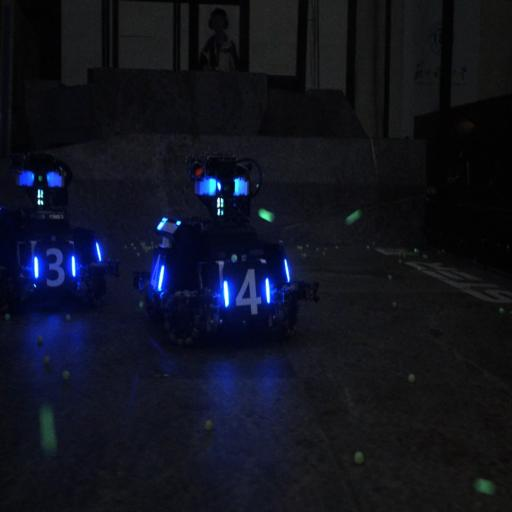target: (217, 258, 274, 324), (29, 239, 78, 294), (147, 248, 169, 303)
